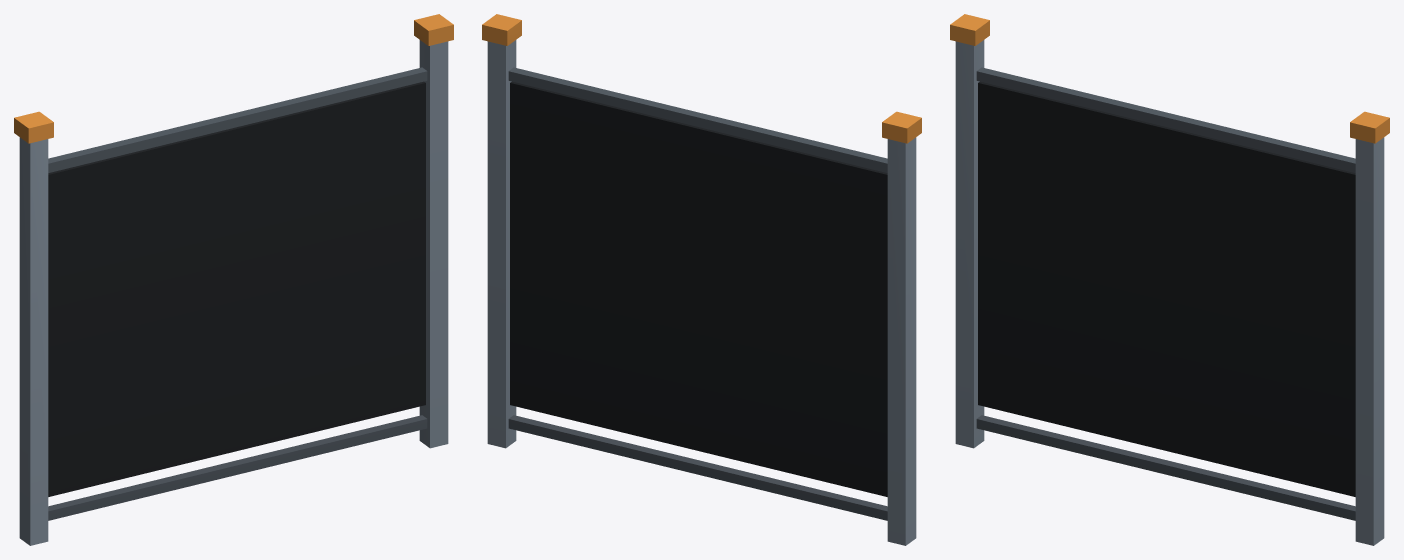
The model's file is obj_valla_3.glb.
3 renders of one model, left to right at view 1: azimuth 30°, elevation 25°; view 2: azimuth 150°, elevation 25°; view 3: azimuth 330°, elevation 25°, orthographic.
Parts seen in each view (by area): view 1: propforge-cuartos-valla; view 2: propforge-cuartos-valla; view 3: propforge-cuartos-valla.
Boxes of the visible parts, bbox=[...] form: propforge-cuartos-valla: bbox=[14, 14, 453, 545]; propforge-cuartos-valla: bbox=[482, 14, 921, 545]; propforge-cuartos-valla: bbox=[950, 14, 1389, 545].
Bounding box in the file's own units: 1.05 × 0.9934 × 0.063.
